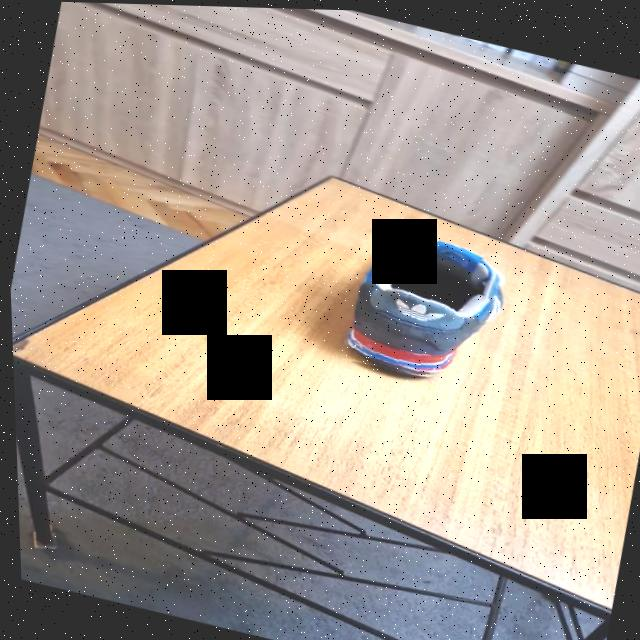shoe: (330, 220, 517, 393)
